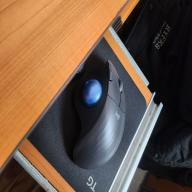mouse: (76, 59, 132, 168)
